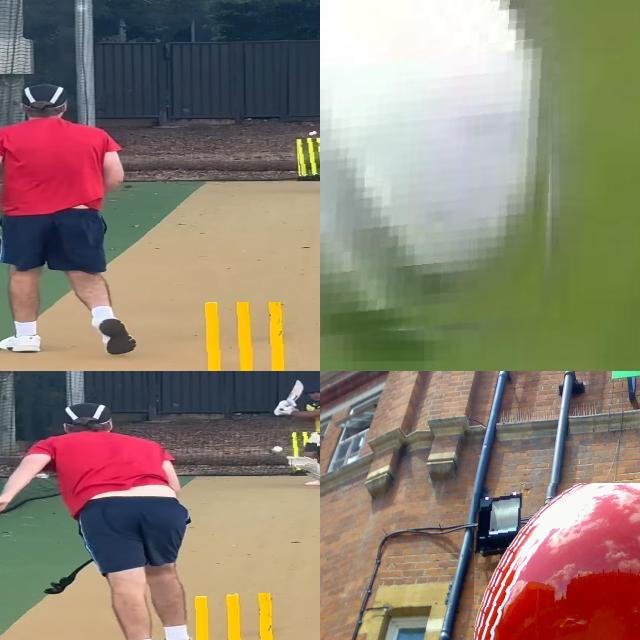Cricket ball: (320, 0, 564, 352), (474, 483, 640, 640), (268, 446, 287, 455), (308, 131, 320, 137)
Stumps: (192, 302, 297, 371), (181, 593, 293, 640), (288, 432, 317, 475), (297, 137, 320, 181)
